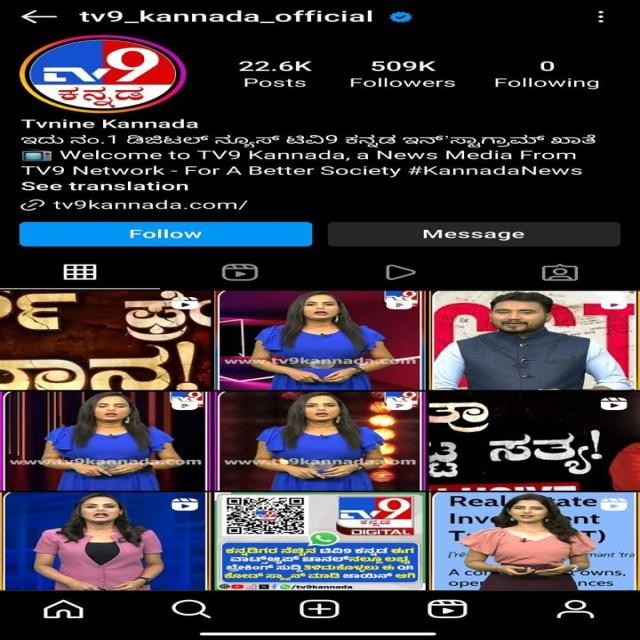Drawer: (172, 598, 215, 620), (427, 598, 469, 620), (43, 598, 86, 618), (299, 599, 342, 619), (554, 600, 596, 620), (540, 264, 582, 283), (222, 263, 260, 281), (385, 263, 418, 281), (64, 264, 98, 280), (22, 10, 60, 24), (600, 497, 628, 513), (173, 396, 200, 412), (18, 198, 46, 213), (386, 296, 414, 311), (600, 397, 630, 411), (170, 497, 200, 511), (386, 397, 414, 411), (602, 297, 630, 310), (174, 296, 198, 310), (596, 9, 606, 24)
EditText: (424, 392, 639, 491), (214, 491, 427, 590), (0, 492, 213, 590), (2, 391, 210, 491), (1, 292, 211, 391), (429, 291, 638, 390), (218, 291, 427, 389), (215, 392, 422, 490), (429, 493, 637, 590), (18, 34, 186, 113), (20, 150, 54, 162), (392, 12, 412, 23)
Icon: (52, 200, 250, 211)
Modal: (20, 134, 599, 148), (19, 165, 582, 177), (59, 149, 578, 161), (80, 10, 376, 24), (493, 59, 602, 90), (349, 61, 457, 89), (236, 60, 315, 88), (21, 118, 198, 130), (21, 181, 191, 193)
